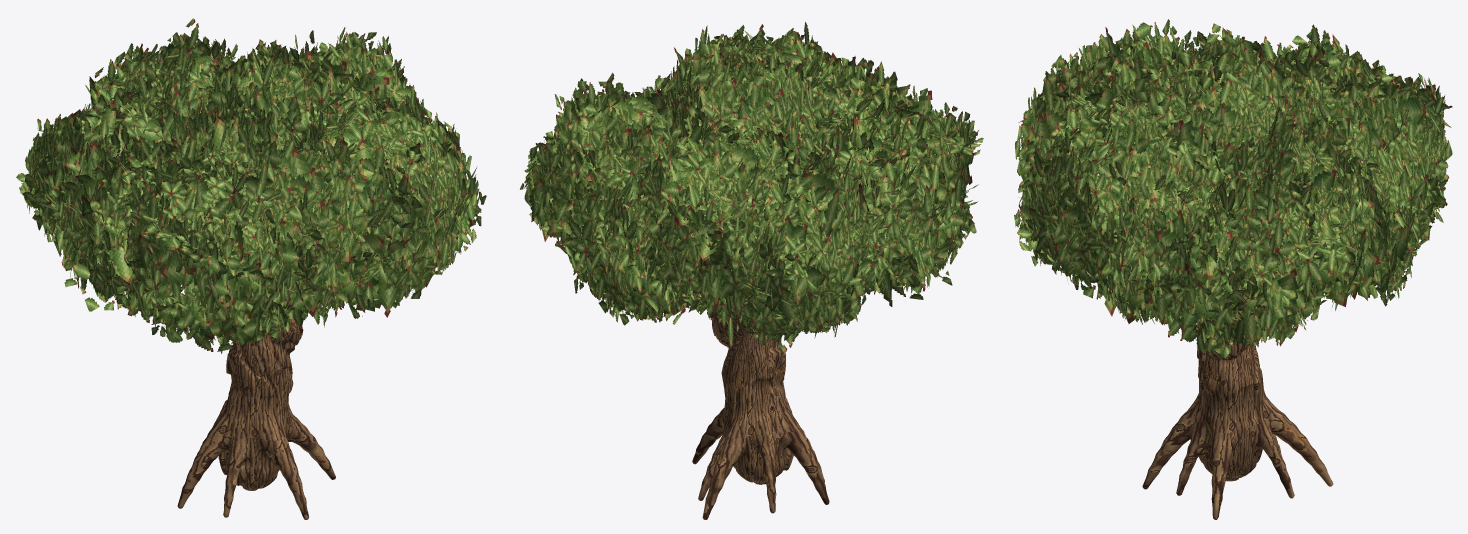
Rendered from macieira_reta_LOD_B.glb.
3 renders of one model, left to right at view 1: azimuth 30°, elevation 25°; view 2: azimuth 150°, elevation 25°; view 3: azimuth 270°, elevation 25°, orthographic. The views are drawn at different scales.
Visible parts, largest first — view 1: macieira_inclinada; view 2: macieira_inclinada; view 3: macieira_inclinada.
Part boxes in pixels (<box>): macieira_inclinada: <box>16,18,486,519</box>; macieira_inclinada: <box>520,22,983,519</box>; macieira_inclinada: <box>1014,19,1452,519</box>.
Size of the model in its own units: 6.03 by 6.5 by 5.66.
2 materials, 2 textured.
